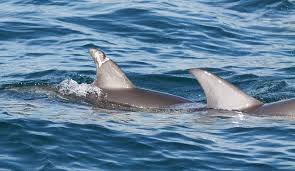fin: (54, 41, 186, 118), (184, 59, 295, 127)
